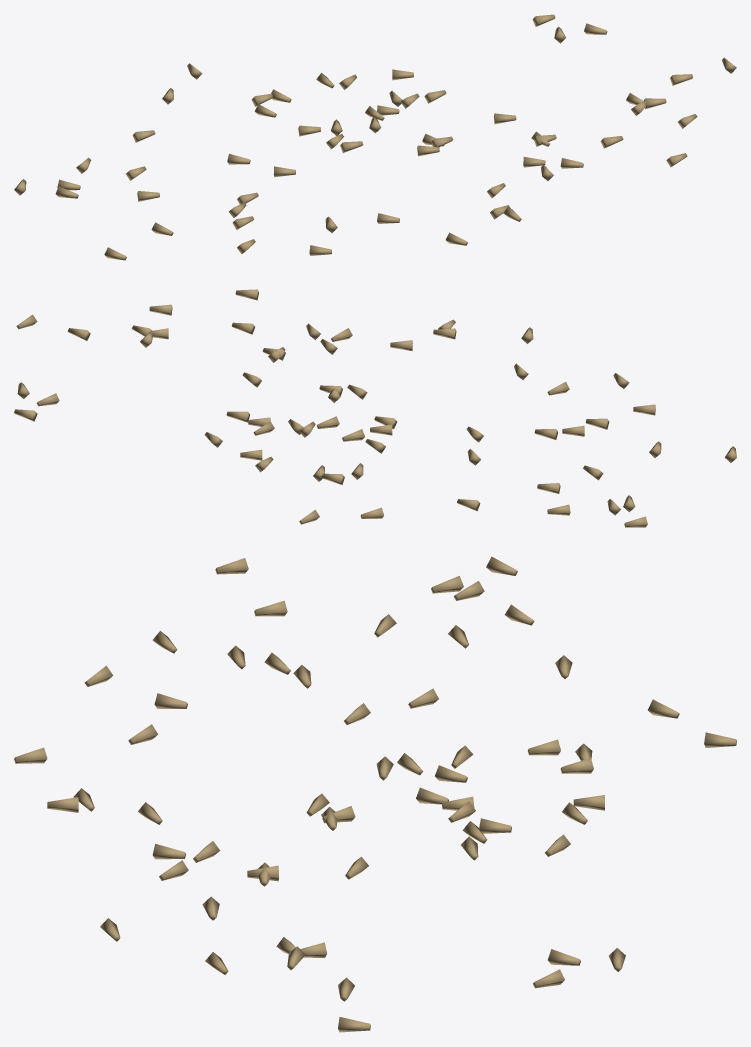
The model's file is workshop_shavings.glb.
The picture shows the model from 3 angles, top to bottom: view 1: azimuth 30°, elevation 25°; view 2: azimuth 150°, elevation 25°; view 3: azimuth 270°, elevation 25°; orthographic projection. The views are drawn at different scales.
Parts seen in each view (by area): view 1: workshop_shavings; view 2: workshop_shavings; view 3: workshop_shavings.
Boxes of the visible parts, x1,y1,x2,y2 form: workshop_shavings: (14,14,736,260); workshop_shavings: (14,289,736,527); workshop_shavings: (14,556,736,1032).
Bounding box in the file's own units: 1.77 × 0.028 × 1.16.
